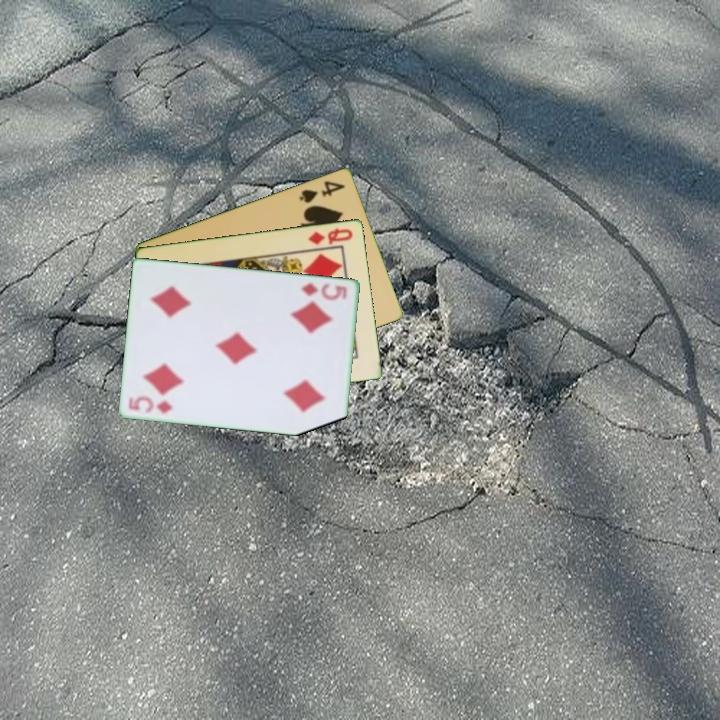4s: (296, 177, 348, 206)
5d: (297, 279, 350, 303), (125, 393, 176, 417)
Qd: (305, 224, 356, 247)
